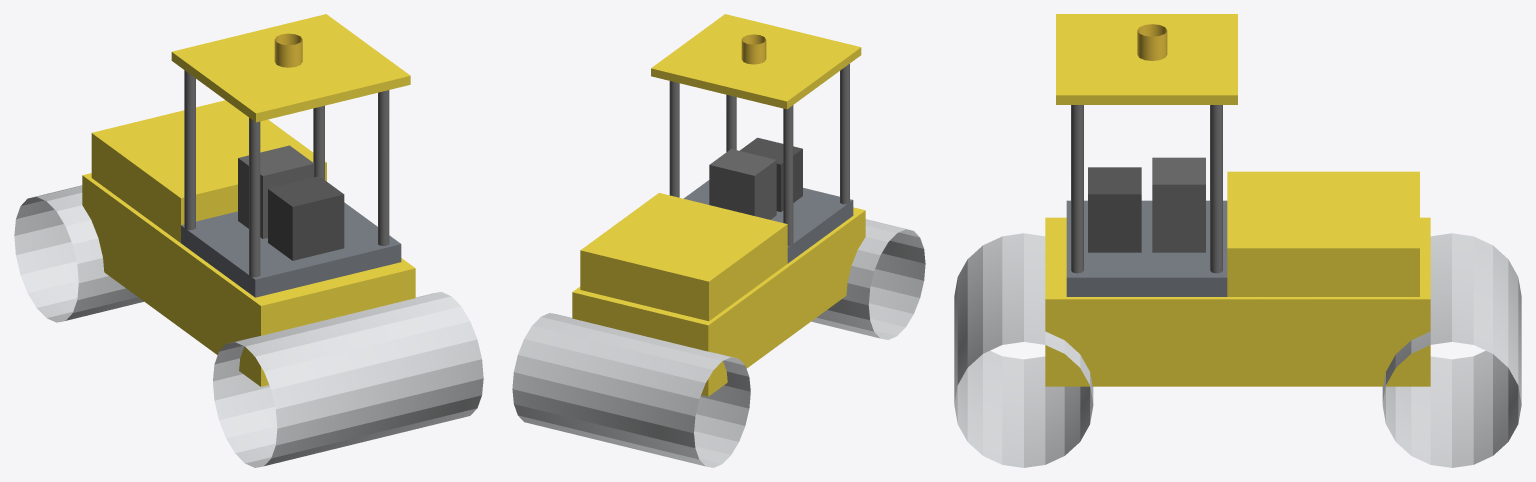
Rendered from road_roller.glb.
3 renders of one model, left to right at view 1: azimuth 30°, elevation 25°; view 2: azimuth 150°, elevation 25°; view 3: azimuth 270°, elevation 25°, orthographic. The views are drawn at different scales.
Parts seen in each view (by area): view 1: FrontDrum, RollerMainChassis, EngineHood, ROPSRoofCanopy, RearDrum, OperatorDeck, OperatorSeat, SteeringConsole, ROPSPostR_-0.8, ROPSPostF_-0.8, ROPSPostR_0.7, AmberBeacon (+1 smaller); view 2: RearDrum, EngineHood, RollerMainChassis, ROPSRoofCanopy, FrontDrum, SteeringConsole, OperatorDeck, OperatorSeat, ROPSPostF_-0.8, ROPSPostR_-0.8, ROPSPostF_0.7, AmberBeacon (+1 smaller); view 3: RollerMainChassis, EngineHood, FrontDrum, RearDrum, ROPSRoofCanopy, OperatorDeck, SteeringConsole, OperatorSeat, ROPSPostF_0.7, ROPSPostR_0.7, AmberBeacon.
Boxes of the visible parts, x1,y1,x2,y2 form: FrontDrum: [213, 292, 483, 467]; RollerMainChassis: [82, 173, 415, 386]; EngineHood: [91, 100, 326, 242]; ROPSRoofCanopy: [171, 14, 410, 122]; RearDrum: [14, 185, 143, 322]; OperatorDeck: [181, 202, 401, 297]; OperatorSeat: [268, 176, 344, 260]; SteeringConsole: [238, 145, 314, 238]; ROPSPostR_-0.8: [249, 117, 260, 277]; ROPSPostF_-0.8: [184, 70, 195, 230]; ROPSPostR_0.7: [378, 90, 389, 245]; AmberBeacon: [274, 33, 302, 67]; RearDrum: [512, 313, 750, 467]; EngineHood: [580, 193, 787, 321]; RollerMainChassis: [572, 207, 865, 396]; ROPSRoofCanopy: [651, 14, 861, 109]; FrontDrum: [811, 219, 925, 339]; SteeringConsole: [709, 149, 776, 219]; OperatorDeck: [683, 180, 853, 263]; OperatorSeat: [739, 137, 802, 211]; ROPSPostF_-0.8: [783, 105, 793, 245]; ROPSPostR_-0.8: [840, 64, 849, 204]; ROPSPostF_0.7: [669, 81, 679, 197]; AmberBeacon: [741, 34, 766, 64]; RollerMainChassis: [1045, 217, 1430, 386]; EngineHood: [1227, 171, 1419, 296]; FrontDrum: [954, 233, 1093, 467]; RearDrum: [1382, 233, 1521, 467]; ROPSRoofCanopy: [1056, 14, 1237, 104]; OperatorDeck: [1066, 200, 1227, 296]; SteeringConsole: [1152, 157, 1205, 252]; OperatorSeat: [1088, 167, 1141, 252]; ROPSPostF_0.7: [1210, 105, 1222, 273]; ROPSPostR_0.7: [1071, 105, 1083, 273]; AmberBeacon: [1137, 24, 1167, 60].
Size of the model in its own units: 2.4 by 3.95 by 5.3.
